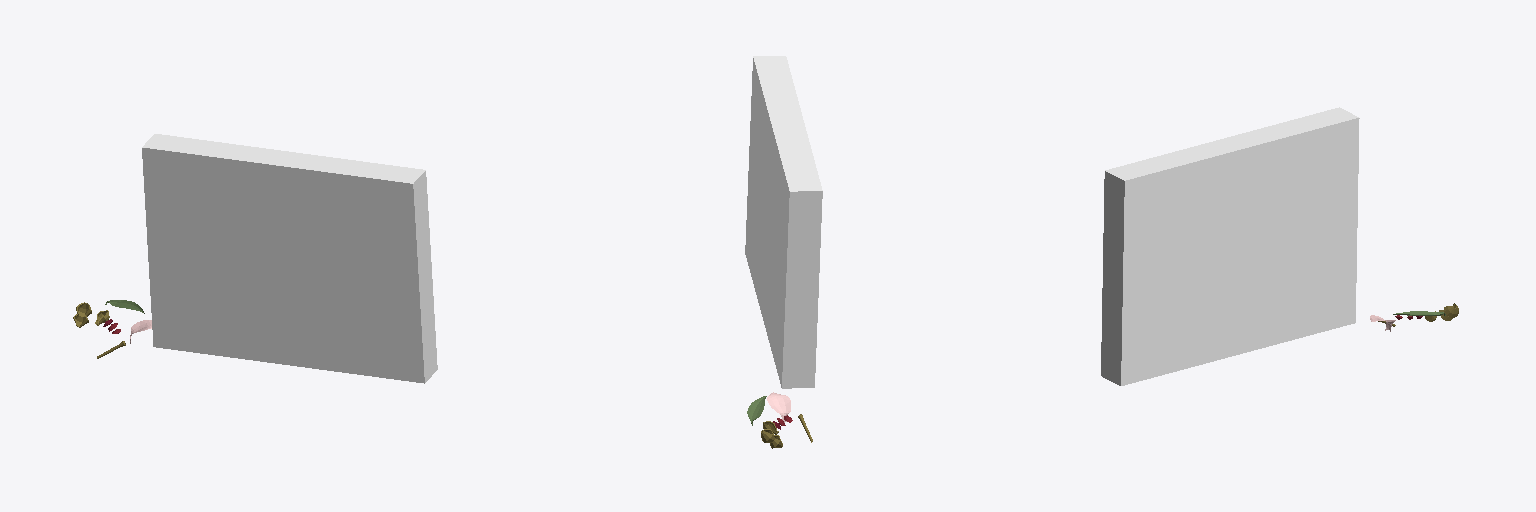
Rendered from magnolia_low_poly.obj.
3 views of the same model, side by side, from view 1: azimuth 30°, elevation 25°; view 2: azimuth 150°, elevation 25°; view 3: azimuth 270°, elevation 25° (orthographic).
Parts seen in each view (by area): view 1: s.2020; view 2: s.2020; view 3: s.2020.
Part boxes in pixels (bbox=[...]): s.2020: bbox=[142, 134, 437, 383]; s.2020: bbox=[745, 56, 822, 388]; s.2020: bbox=[1101, 107, 1359, 385].
Bounding box in the file's own units: 1.5 × 1.68 × 2.27.